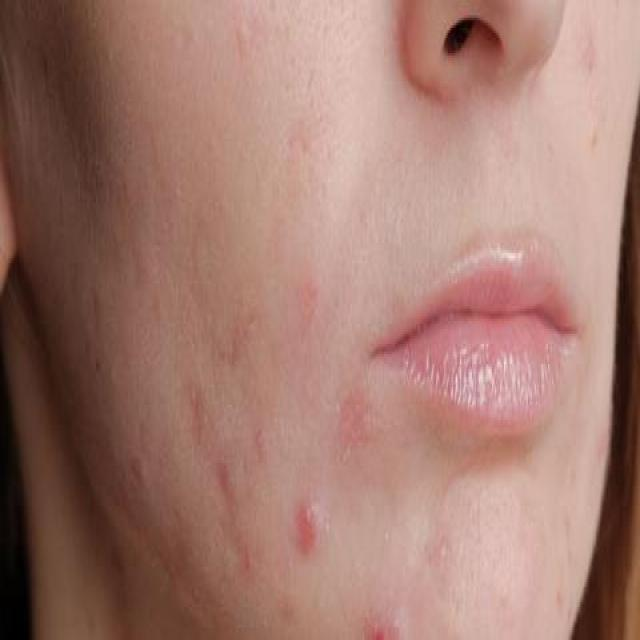blackheads: (299, 491, 317, 546), (583, 30, 593, 66), (434, 536, 438, 554)
